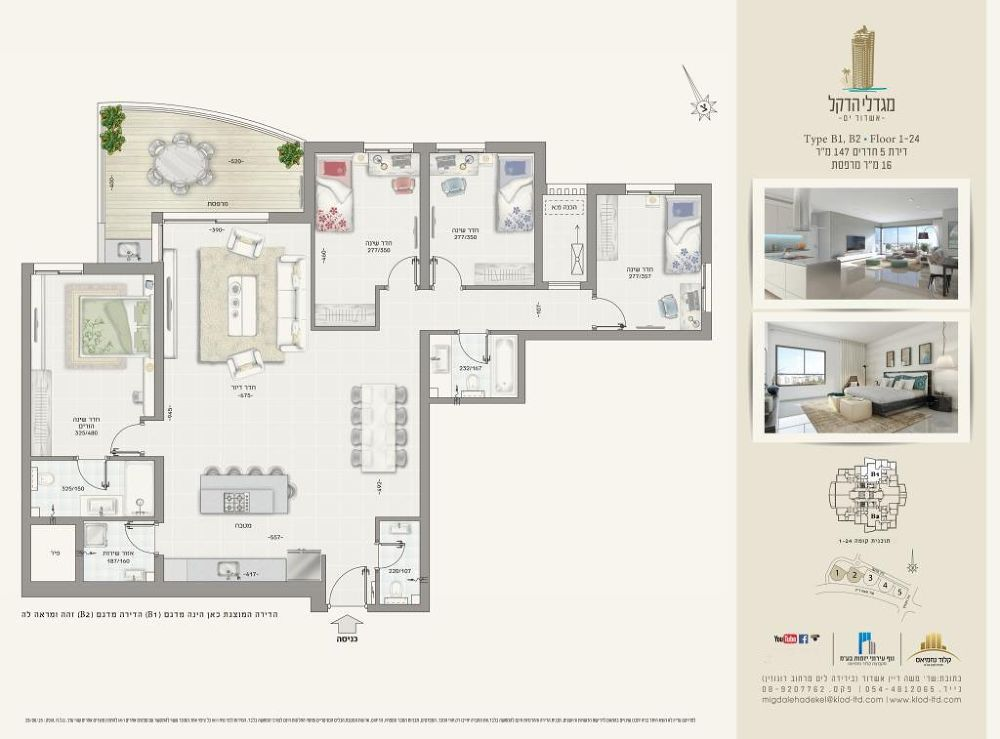door: (118, 520, 154, 557), (75, 461, 112, 493), (105, 422, 142, 454), (384, 253, 419, 282), (430, 253, 465, 282), (379, 540, 414, 569), (457, 336, 492, 365)
wall: (23, 581, 326, 597), (419, 330, 431, 613), (22, 264, 31, 597), (154, 262, 164, 421), (306, 142, 364, 153), (487, 141, 545, 152)
window: (163, 212, 269, 223), (34, 263, 83, 274), (363, 143, 412, 154), (627, 184, 676, 195), (436, 142, 485, 153), (701, 262, 711, 311)
